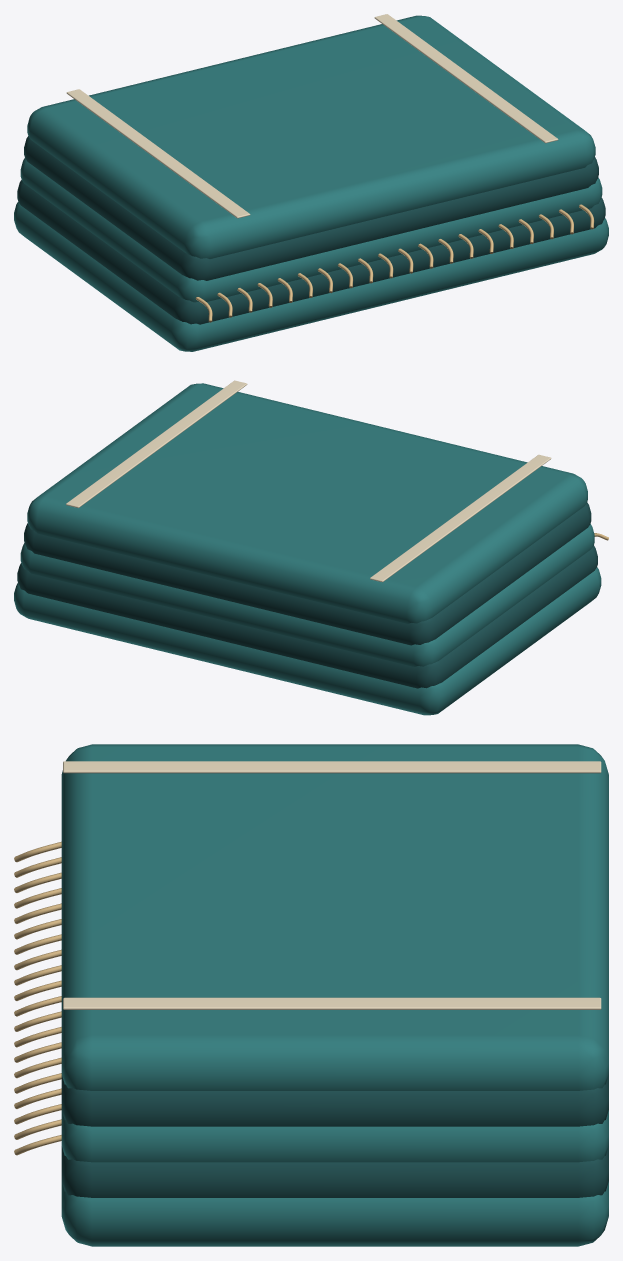
The model's file is Blanket.fbx.
3 views of the same model, one above another, from view 1: azimuth 30°, elevation 25°; view 2: azimuth 150°, elevation 25°; view 3: azimuth 270°, elevation 25° (orthographic). The views are drawn at different scales.
Parts seen in each view (by area): view 1: Surface_KKTC_CanvasTeal, Surface_KKTC_CanvasDeep, Surface_KKTC_Stitch, Surface_KKTC_Webbing; view 2: Surface_KKTC_CanvasTeal, Surface_KKTC_CanvasDeep, Surface_KKTC_Stitch; view 3: Surface_KKTC_CanvasTeal, Surface_KKTC_CanvasDeep, Surface_KKTC_Stitch, Surface_KKTC_Webbing.
Part boxes in pixels (x1,y1,x2,y2): Surface_KKTC_CanvasTeal: (14, 15, 608, 351); Surface_KKTC_CanvasDeep: (17, 136, 605, 324); Surface_KKTC_Stitch: (66, 14, 558, 218); Surface_KKTC_Webbing: (195, 204, 594, 322); Surface_KKTC_CanvasTeal: (14, 383, 601, 715); Surface_KKTC_CanvasDeep: (17, 502, 597, 688); Surface_KKTC_Stitch: (66, 380, 551, 582); Surface_KKTC_CanvasTeal: (61, 744, 608, 1246); Surface_KKTC_CanvasDeep: (61, 1074, 608, 1197); Surface_KKTC_Stitch: (63, 761, 601, 1009); Surface_KKTC_Webbing: (14, 841, 61, 1155).
Bounding box in the file's own units: 26 × 7.45 × 19.56.
